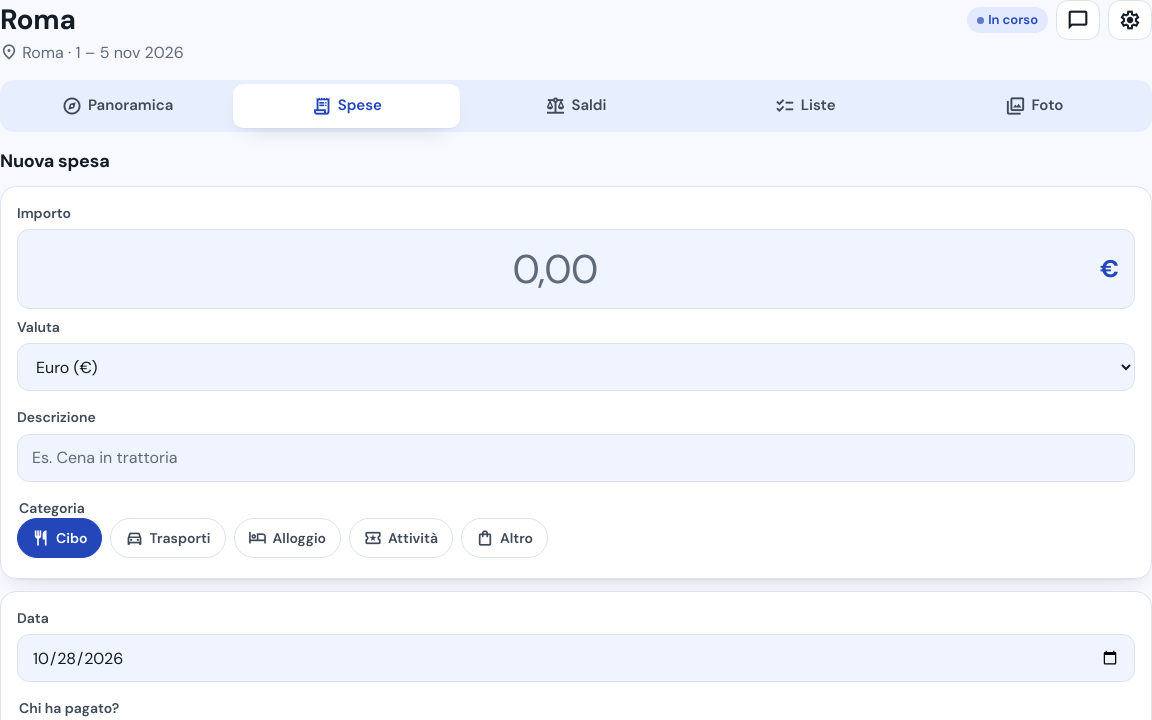
it: ExpenseFormPage › parti uguali: nessun «conta per», anche se un partecipante aveva un peso salvato (D-75)
The image size is (1152, 720).
Type "90" into the field labelled "Importo" at (576, 269), box top-left (17, 229), bottom-right (1135, 309)
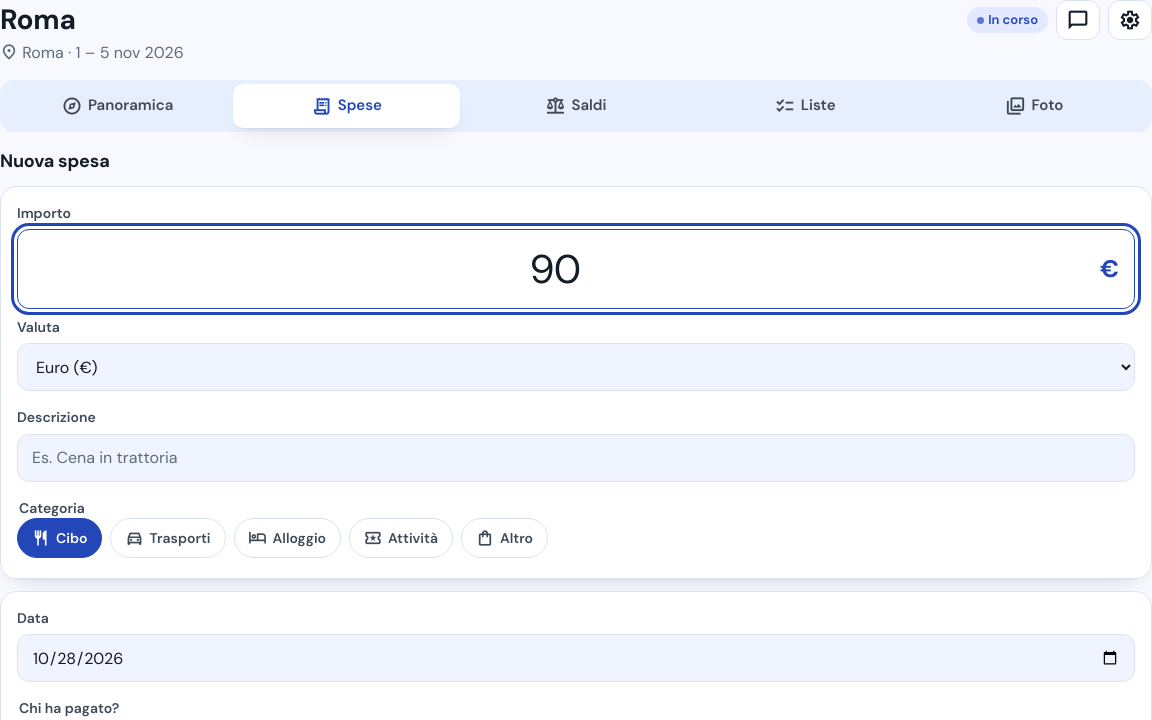
Type "Cena" into the field labelled "Descrizione" at (576, 458), box top-left (17, 434), bottom-right (1135, 482)
(page scrolled)
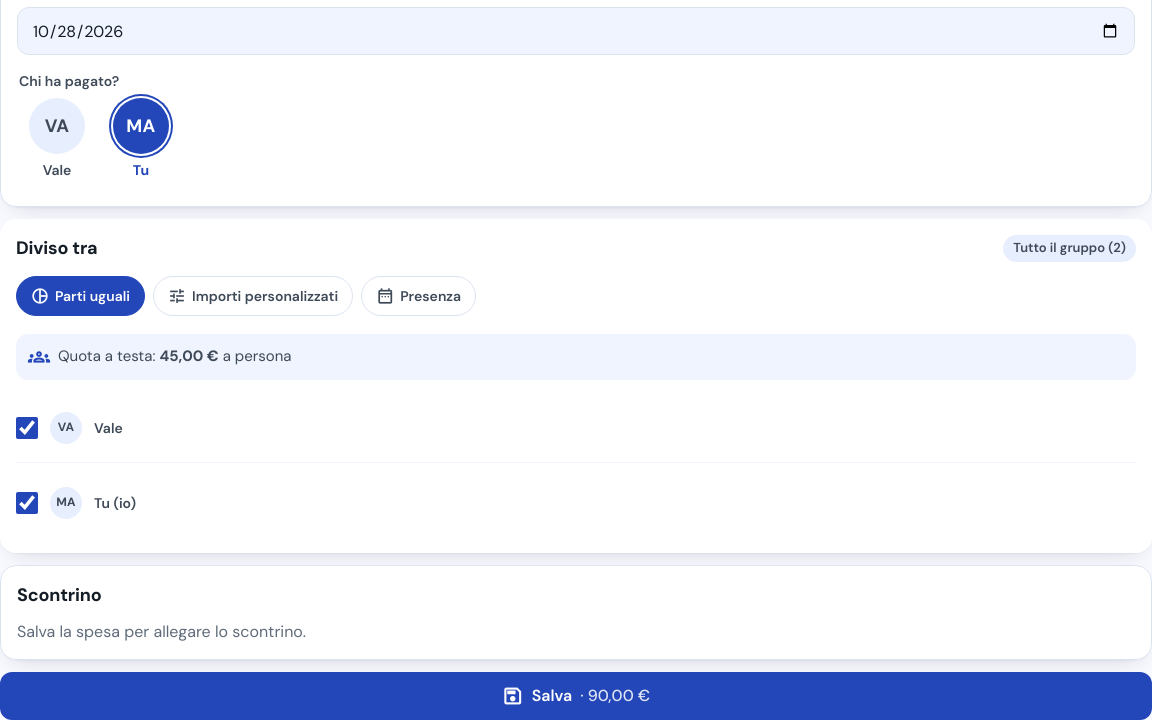
Expected: the radio button labelled "Parti uguali" is checked, top-left (16, 276), bottom-right (145, 316)
Now the text "Quota a testa: 45,00 € a persona" is shown, box top-left (58, 346), bottom-right (292, 368)
Click the button "Salva · 90,00 €" at (552, 696), box top-left (0, 672), bottom-right (1151, 719)
(page scrolled)
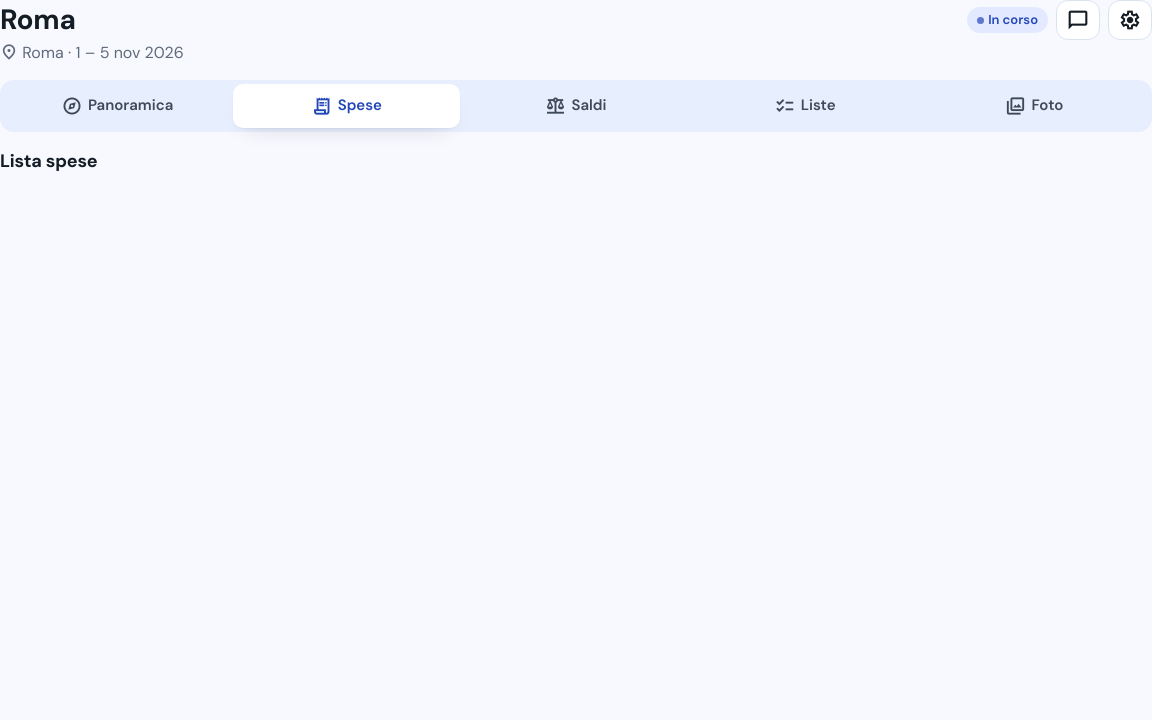
Now the heading "Lista spese" is shown, box top-left (0, 149), bottom-right (98, 173)
